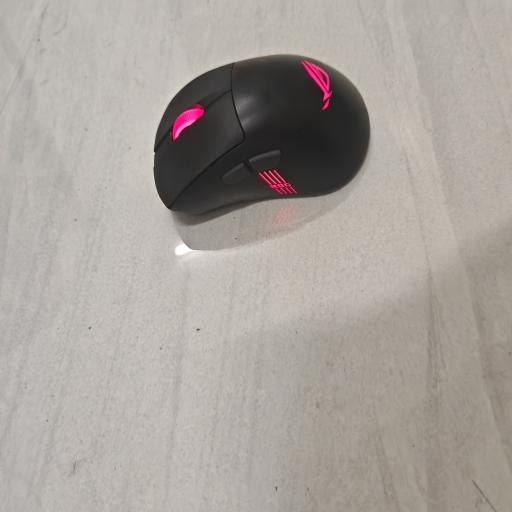mouse: (154, 54, 370, 214)
